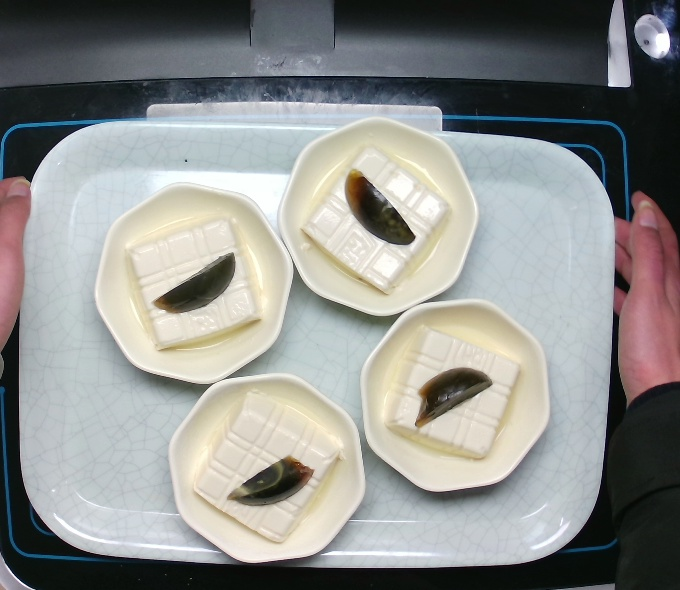wcq-PiDanDouFu: (293, 135, 451, 298), (184, 385, 343, 541), (382, 316, 525, 468), (127, 209, 260, 351)
